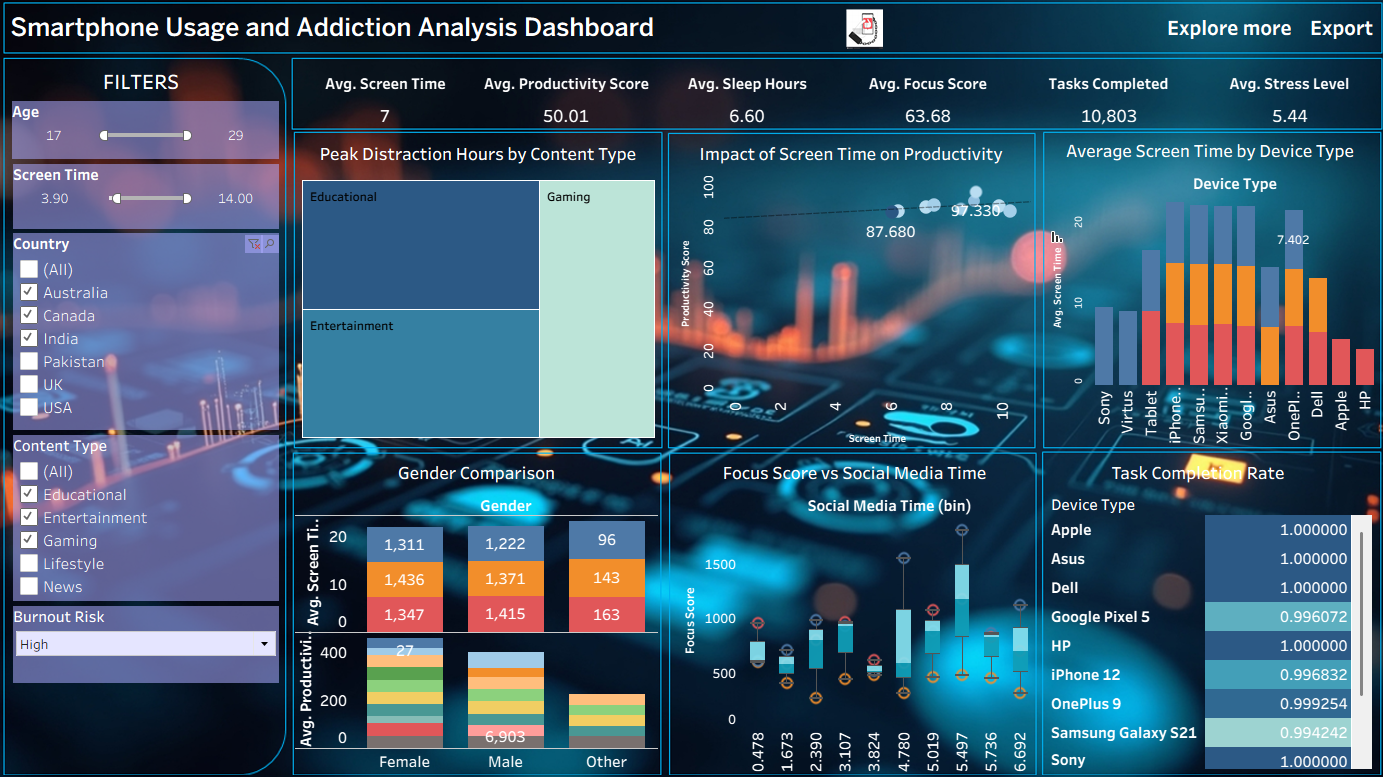

The dashboard page shown, as its layout file describes it:
{"tool":"tableau","page":{"name":"didgital_Addiction_and_productivity_dashboard (1)","canvas":[1400,800],"ordinal":0},"visuals":[{"type":"image","param":"Image/digital_addiction_bg_2.PNG","box":[0,0,1400,800]},{"type":"image","param":"Image/addiction.png","box":[847,20,49,40]},{"type":"dashboard-object","box":[1163,21,146,33]},{"type":"text","box":[14,23,651,30]},{"type":"worksheet","title":"KPI","mark":"Automatic","box":[302,74,1085,65]},{"type":"text","box":[98,77,100,30]},{"type":"filter","title":"Filters","param":"[federated.1l17ptl0z298e1154kmrq1arx611].[none:Age:qk]","box":[19,112,267,58]},{"type":"worksheet","title":"Average Screen Time by Device Type","mark":"Automatic","rows":["Screen Time"],"cols":["Device Type"],"box":[1050,145,334,311]},{"type":"worksheet","title":"Peak Distraction Hours by Content Type","mark":"Automatic","box":[305,148,360,308]},{"type":"worksheet","title":"Impact of Screen Time on Productivity","mark":"Circle","rows":["Productivity Score"],"cols":["Screen Time"],"box":[678,148,360,308]},{"type":"filter","title":"Filters","param":"[federated.1l17ptl0z298e1154kmrq1arx611].[none:Screen Time:qk]","box":[20,175,266,65]},{"type":"filter","title":"Filters","param":"[federated.1l17ptl0z298e1154kmrq1arx611].[none:Country:nk]","box":[20,244,266,197]},{"type":"worksheet","title":"Filters","mark":"Automatic","box":[931,292,84,37]},{"type":"filter","title":"Filters","param":"[federated.1l17ptl0z298e1154kmrq1arx611].[none:Content Type:nk]","box":[20,446,266,166]},{"type":"worksheet","title":"Gender Comparison","mark":"Automatic","rows":["Screen Time","Productivity Score"],"cols":["Gender"],"box":[302,467,363,318]},{"type":"worksheet","title":"Focus Score vs Social Media Time","mark":"Shape","rows":["Focus Score"],"cols":["Social Media Time (bin)"],"box":[681,467,361,317]},{"type":"worksheet","title":"Task Completion Rate","mark":"Square","rows":["Device Type"],"box":[1052,467,334,313]},{"type":"filter","title":"Filters","param":"[federated.1l17ptl0z298e1154kmrq1arx611].[none:Burnout Risk:nk]","box":[20,617,266,77]}]}

Visuals, with their boxes in screenshot pixels (x1, y1, x2, y2), scaled from the page's 1400x800 canvas onto the 1383x777 screenshot:
image: <bbox>0, 0, 1382, 776</bbox>
image: <bbox>837, 19, 885, 58</bbox>
dashboard-object: <bbox>1149, 20, 1293, 52</bbox>
text: <bbox>14, 22, 657, 51</bbox>
"KPI" worksheet: <bbox>298, 72, 1370, 135</bbox>
text: <bbox>97, 75, 196, 104</bbox>
"Filters" filter: <bbox>19, 109, 283, 165</bbox>
"Average Screen Time by Device Type" worksheet: <bbox>1037, 141, 1367, 443</bbox>
"Peak Distraction Hours by Content Type" worksheet: <bbox>301, 144, 657, 443</bbox>
"Impact of Screen Time on Productivity" worksheet (Circle marks): <bbox>670, 144, 1025, 443</bbox>
"Filters" filter: <bbox>20, 170, 283, 233</bbox>
"Filters" filter: <bbox>20, 237, 283, 428</bbox>
"Filters" worksheet: <bbox>920, 284, 1003, 320</bbox>
"Filters" filter: <bbox>20, 433, 283, 594</bbox>
"Gender Comparison" worksheet: <bbox>298, 454, 657, 762</bbox>
"Focus Score vs Social Media Time" worksheet (Shape marks): <bbox>673, 454, 1029, 761</bbox>
"Task Completion Rate" worksheet (Square marks): <bbox>1039, 454, 1369, 758</bbox>
"Filters" filter: <bbox>20, 599, 283, 674</bbox>
